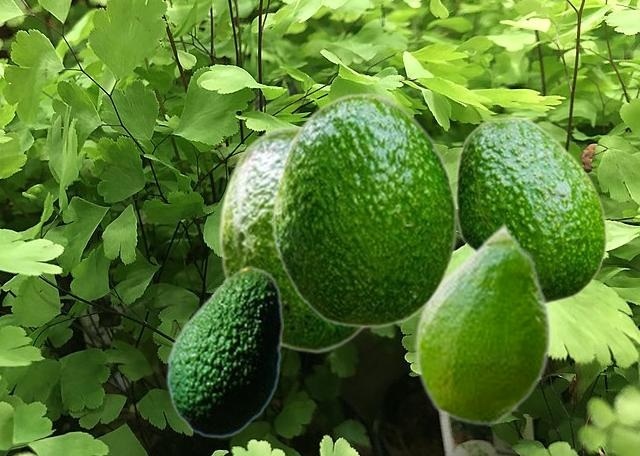avocado: (272, 92, 457, 327), (217, 126, 367, 352), (454, 115, 606, 304), (414, 222, 551, 425), (166, 266, 282, 437)
